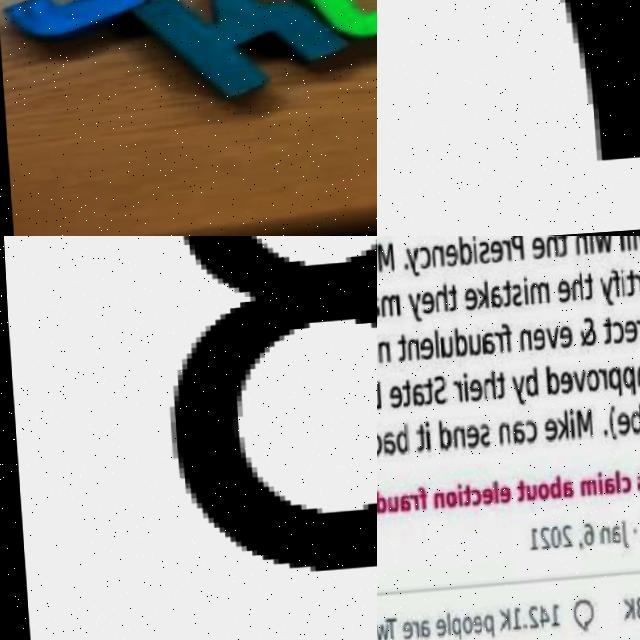0: (544, 531, 557, 556)
1: (504, 609, 518, 636), (523, 531, 534, 559), (544, 607, 554, 633)
2: (521, 610, 532, 637), (556, 531, 567, 554), (534, 530, 543, 557)
3: (628, 602, 640, 629)
4: (533, 610, 544, 632)
6: (576, 528, 589, 555)
7: (390, 0, 640, 177)
8: (145, 236, 377, 584)
A: (485, 288, 500, 316), (407, 386, 422, 413), (507, 425, 522, 452), (377, 433, 392, 459), (556, 484, 571, 505), (479, 336, 492, 360), (393, 496, 407, 517), (631, 369, 640, 396), (605, 531, 615, 554), (599, 483, 611, 501), (413, 621, 424, 640)
B: (520, 371, 536, 404), (624, 410, 640, 442), (390, 427, 406, 458), (544, 482, 557, 507)
C: (415, 250, 430, 275), (607, 326, 622, 351), (519, 426, 534, 451), (615, 481, 628, 502), (466, 494, 476, 512)
D: (540, 371, 557, 402), (455, 239, 471, 271), (450, 332, 466, 363), (434, 423, 448, 457), (377, 494, 382, 519)
E: (538, 422, 554, 449), (529, 332, 544, 359), (555, 376, 570, 403), (385, 388, 400, 415), (611, 417, 626, 444), (460, 429, 475, 456), (486, 244, 501, 270), (528, 242, 543, 267), (554, 286, 569, 311), (417, 294, 432, 319), (554, 330, 569, 355), (416, 341, 431, 366), (620, 327, 635, 351), (442, 249, 457, 272), (465, 385, 480, 408), (460, 293, 474, 316), (464, 619, 477, 640), (494, 490, 506, 510), (476, 493, 489, 511), (429, 622, 440, 640), (395, 624, 404, 640)
F: (500, 327, 510, 360), (609, 275, 619, 305), (413, 490, 422, 515)
H: (477, 374, 493, 407), (430, 287, 446, 318), (566, 279, 582, 310), (542, 236, 556, 263)
I: (421, 425, 427, 458), (470, 239, 476, 269), (585, 236, 592, 261), (452, 487, 458, 515), (520, 282, 525, 313), (618, 276, 623, 306), (460, 377, 465, 407), (566, 416, 571, 446), (593, 479, 599, 503), (629, 236, 634, 258)
J: (616, 527, 624, 557)
K: (470, 285, 486, 315), (550, 417, 564, 447), (614, 606, 629, 629), (492, 613, 505, 638)
L: (488, 486, 494, 511), (430, 334, 435, 363), (609, 478, 615, 502), (617, 236, 622, 258), (623, 236, 628, 258), (440, 614, 444, 640)
M: (377, 297, 398, 322), (526, 287, 547, 310), (377, 245, 393, 275), (572, 417, 589, 445), (574, 485, 592, 504), (637, 524, 640, 549)
N: (429, 248, 444, 274), (572, 240, 587, 263), (448, 431, 463, 454), (403, 342, 418, 364), (516, 335, 529, 358), (494, 428, 506, 451), (377, 344, 388, 368), (428, 495, 440, 514), (594, 534, 605, 552)
O: (582, 376, 597, 399), (439, 494, 454, 512), (454, 620, 467, 640), (532, 488, 545, 506)
P: (618, 373, 634, 404), (508, 238, 524, 268), (603, 376, 619, 406), (475, 620, 488, 640), (444, 620, 455, 640)
R: (449, 384, 460, 411), (499, 245, 510, 268), (631, 281, 640, 304), (595, 375, 604, 397), (490, 338, 499, 359), (632, 326, 640, 348), (406, 497, 414, 516), (406, 624, 412, 640)
S: (428, 378, 444, 411), (507, 289, 520, 314), (474, 429, 487, 452), (477, 246, 488, 271), (631, 480, 640, 500)
T: (396, 383, 410, 413), (498, 283, 510, 315), (410, 426, 422, 457), (622, 275, 634, 304), (392, 337, 404, 366), (419, 381, 430, 410), (444, 289, 455, 317), (492, 375, 502, 405), (378, 620, 393, 640), (599, 324, 610, 351), (555, 236, 565, 265), (581, 279, 590, 307), (511, 486, 520, 508), (458, 489, 466, 512)
U: (464, 339, 479, 362), (436, 340, 451, 363), (520, 490, 532, 509), (382, 499, 394, 517)
V: (541, 331, 556, 358), (568, 378, 583, 400)
W: (592, 237, 611, 262), (634, 236, 640, 257), (377, 626, 383, 640)
Y: (402, 251, 419, 284), (404, 295, 420, 328), (595, 283, 612, 314), (507, 380, 523, 412)
